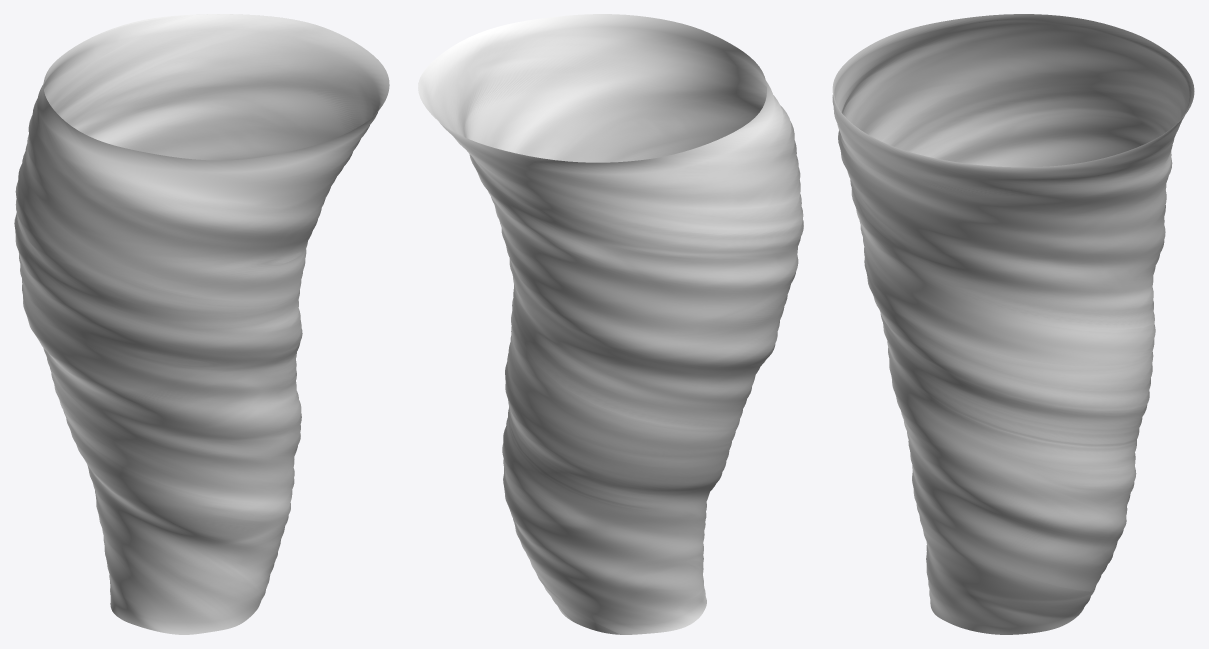
File: Tornado_2.fbx
3 views of the same model, side by side, from view 1: azimuth 30°, elevation 25°; view 2: azimuth 150°, elevation 25°; view 3: azimuth 270°, elevation 25° (orthographic). The views are drawn at different scales.
Parts seen in each view (by area): view 1: SM_SG_tornado; view 2: SM_SG_tornado; view 3: SM_SG_tornado.
Part boxes in pixels (bbox=[...]): SM_SG_tornado: bbox=[14, 14, 389, 634]; SM_SG_tornado: bbox=[418, 14, 803, 634]; SM_SG_tornado: bbox=[832, 14, 1194, 634].
Bounding box in the file's own units: 1.98 × 2.88 × 1.77.
Materials: 1 (1 with a texture image).
